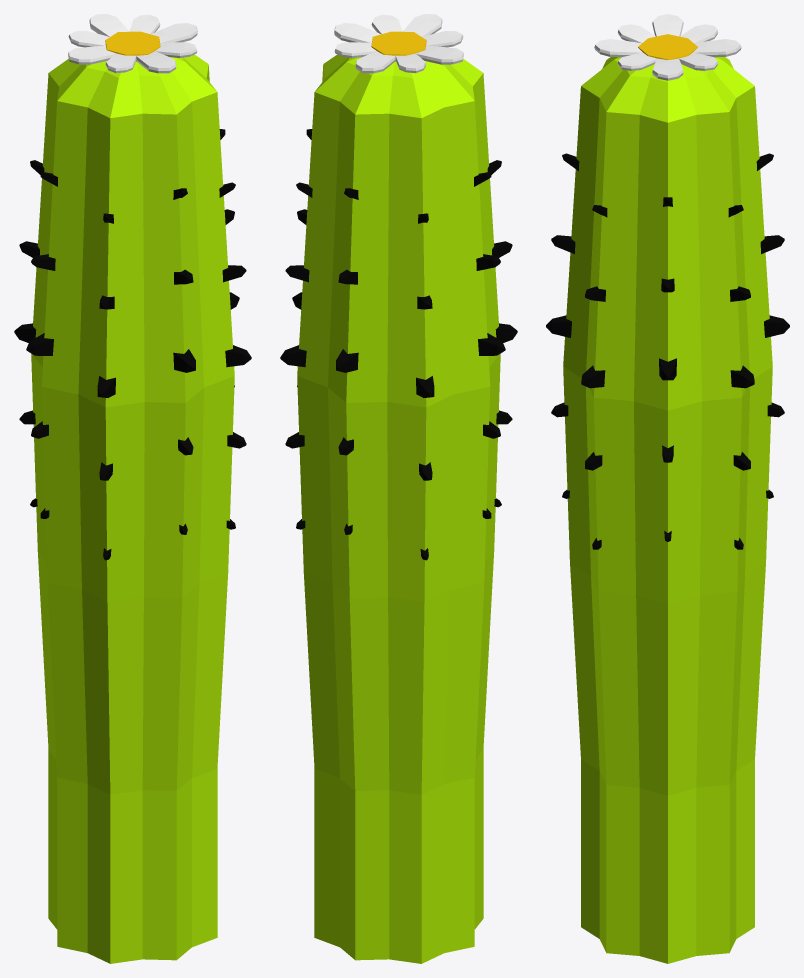
File: Cardon05_00Brazos_Flor_Blanca.fbx
3 renders of one model, left to right at view 1: azimuth 30°, elevation 25°; view 2: azimuth 150°, elevation 25°; view 3: azimuth 270°, elevation 25°, orthographic.
Visible parts, largest first — view 1: Cactus, Espinas, Flor_Blanca; view 2: Cactus, Espinas, Flor_Blanca; view 3: Cactus, Espinas, Flor_Blanca.
Boxes of the visible parts, x1,y1,x2,y2 form: Cactus: (31, 54, 234, 963); Espinas: (14, 129, 251, 560); Flor_Blanca: (68, 14, 197, 73); Cactus: (297, 54, 500, 963); Espinas: (280, 129, 517, 560); Flor_Blanca: (334, 14, 463, 73); Cactus: (563, 57, 772, 963); Espinas: (546, 153, 789, 549); Flor_Blanca: (594, 14, 741, 80).
Size of the model in its own units: 53.18 by 212 by 53.18.
